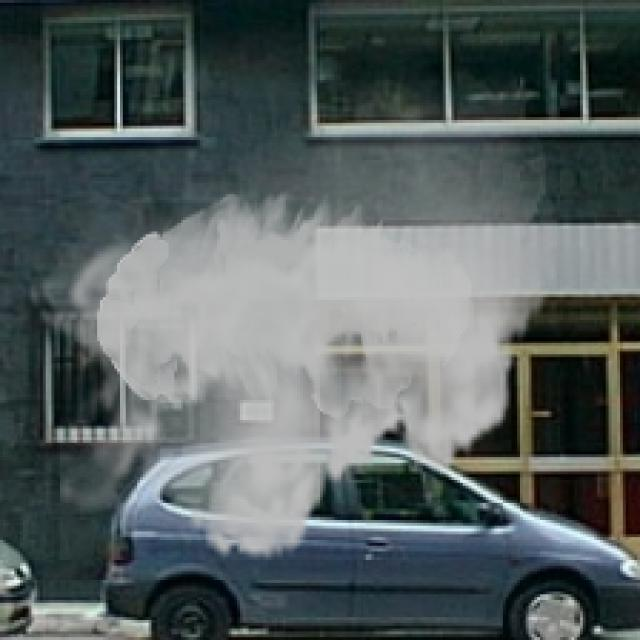Smoke: (25, 40, 558, 580)
